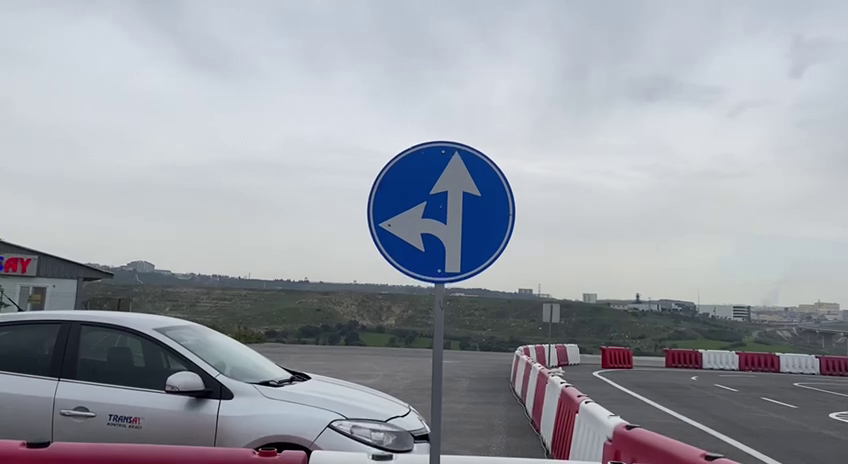forwardAndLeft: (362, 136, 520, 288)
